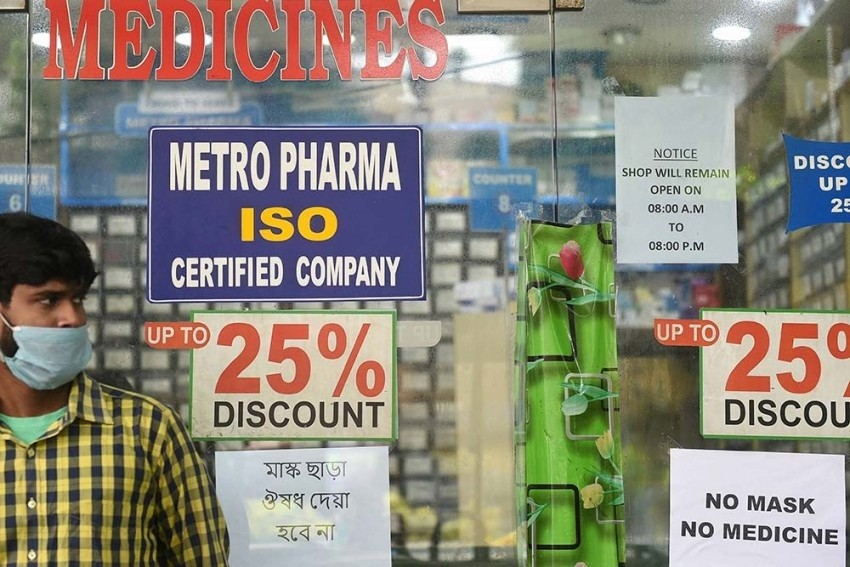face_with_mask: (3, 242, 109, 406)
